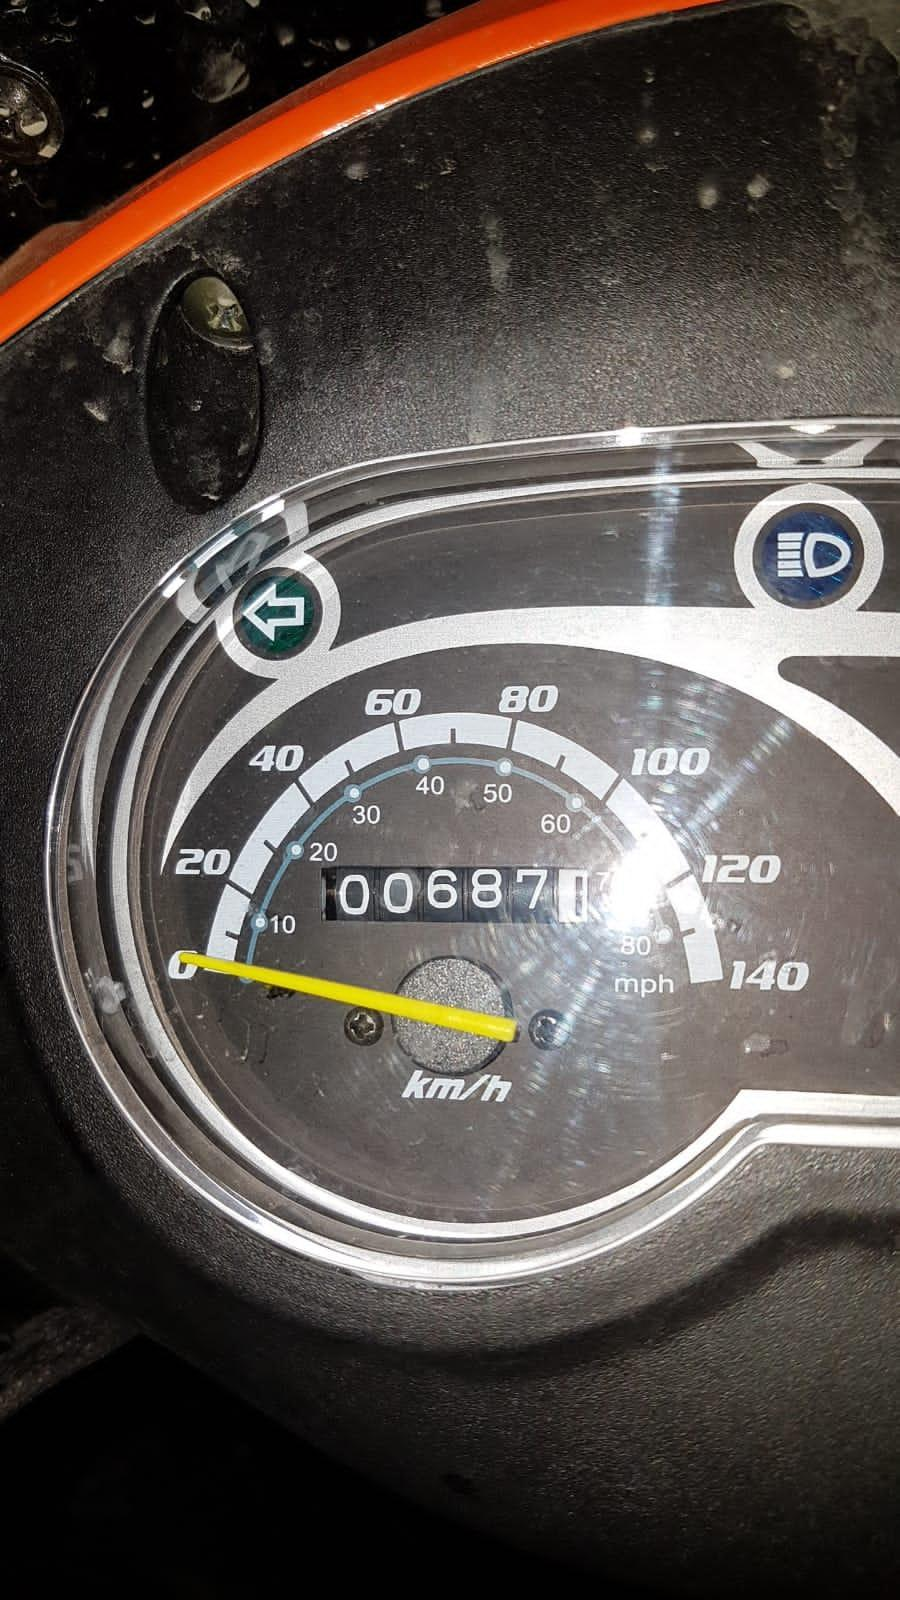0: (338, 874, 370, 915), (382, 873, 414, 914)
1: (573, 871, 584, 916)
6: (426, 868, 458, 909)
7: (515, 868, 548, 909)
8: (470, 867, 503, 909)
odometer: (316, 862, 591, 927)
